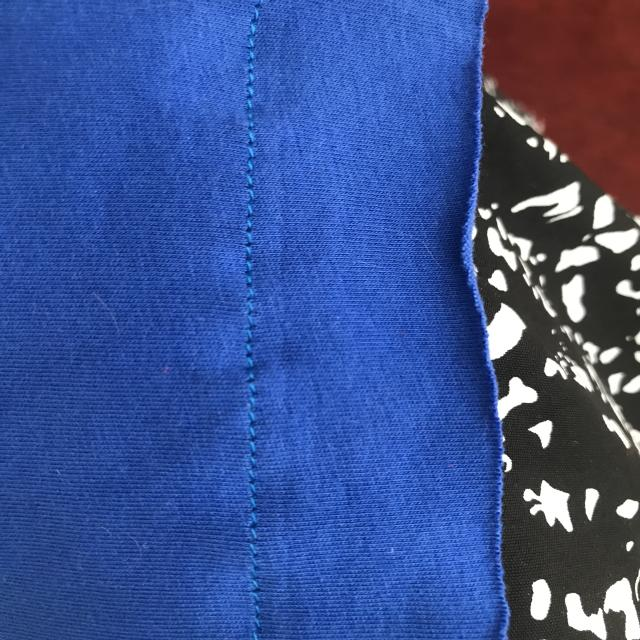good: (227, 408, 278, 550), (237, 138, 264, 287)
